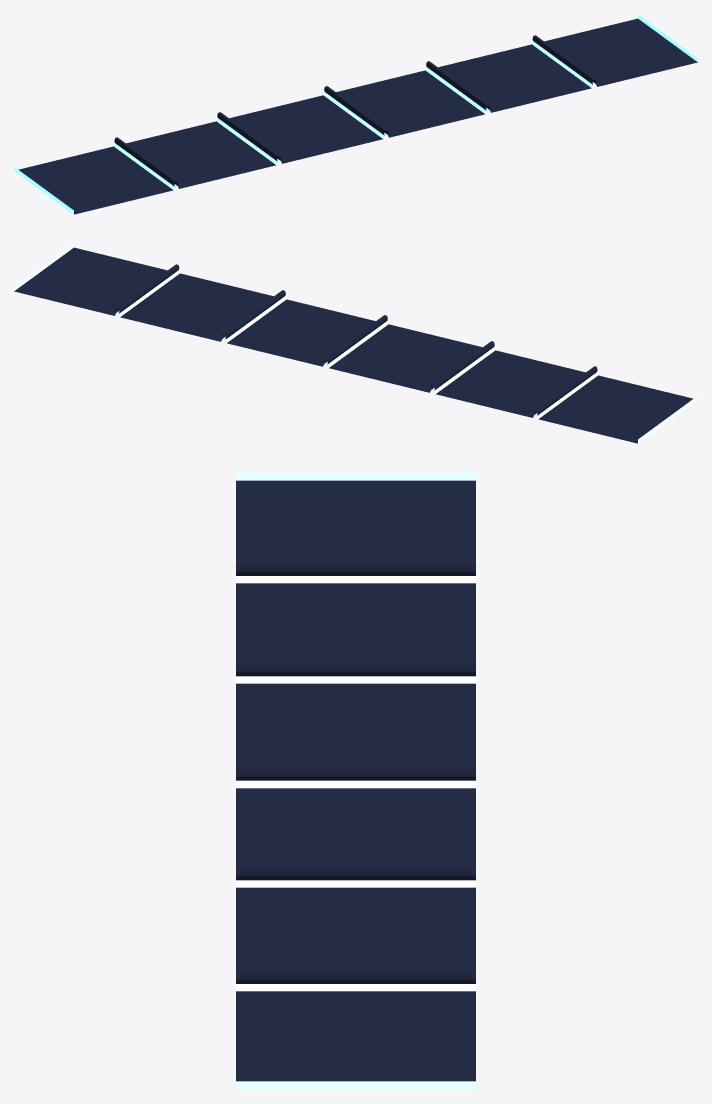
Rendered from bTrack_50_00.fbx.
3 views of the same model, one above another, from view 1: azimuth 30°, elevation 25°; view 2: azimuth 150°, elevation 25°; view 3: azimuth 270°, elevation 25° (orthographic). The views are drawn at different scales.
Parts seen in each view (by area): view 1: bTrack_50_00; view 2: bTrack_50_00; view 3: bTrack_50_00.
Boxes of the visible parts, left/top/right/bottom form: bTrack_50_00: left=14, top=14, right=697, bottom=214; bTrack_50_00: left=14, top=243, right=697, bottom=443; bTrack_50_00: left=236, top=472, right=475, bottom=1089.
Bounding box in the file's own units: 6005 × 76.2 × 1001.
